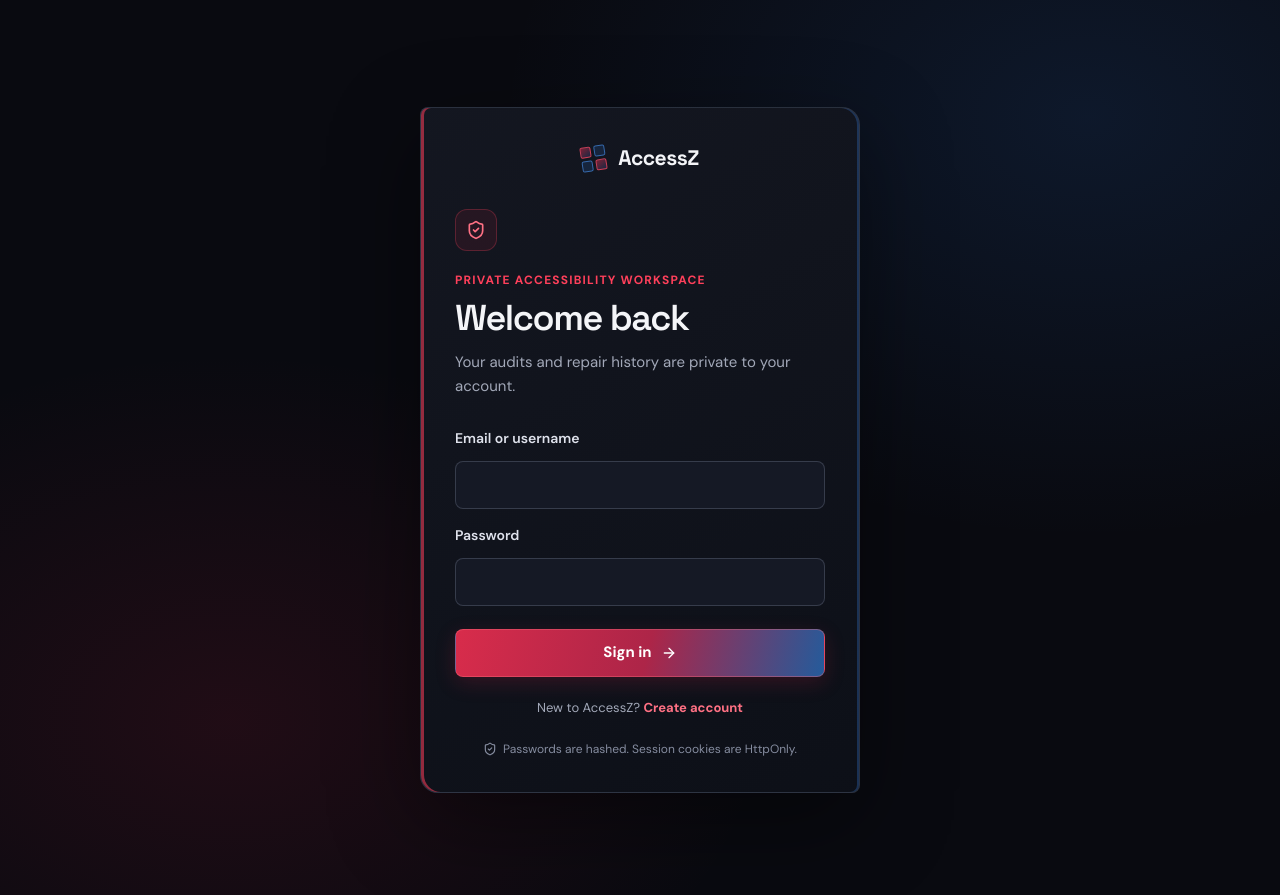
AccessZ audit workflow › signs in and signs out through the server-backed session API
Type "testuser" into the field labelled "Email or username" at [640, 485], box [455,461,825,509]
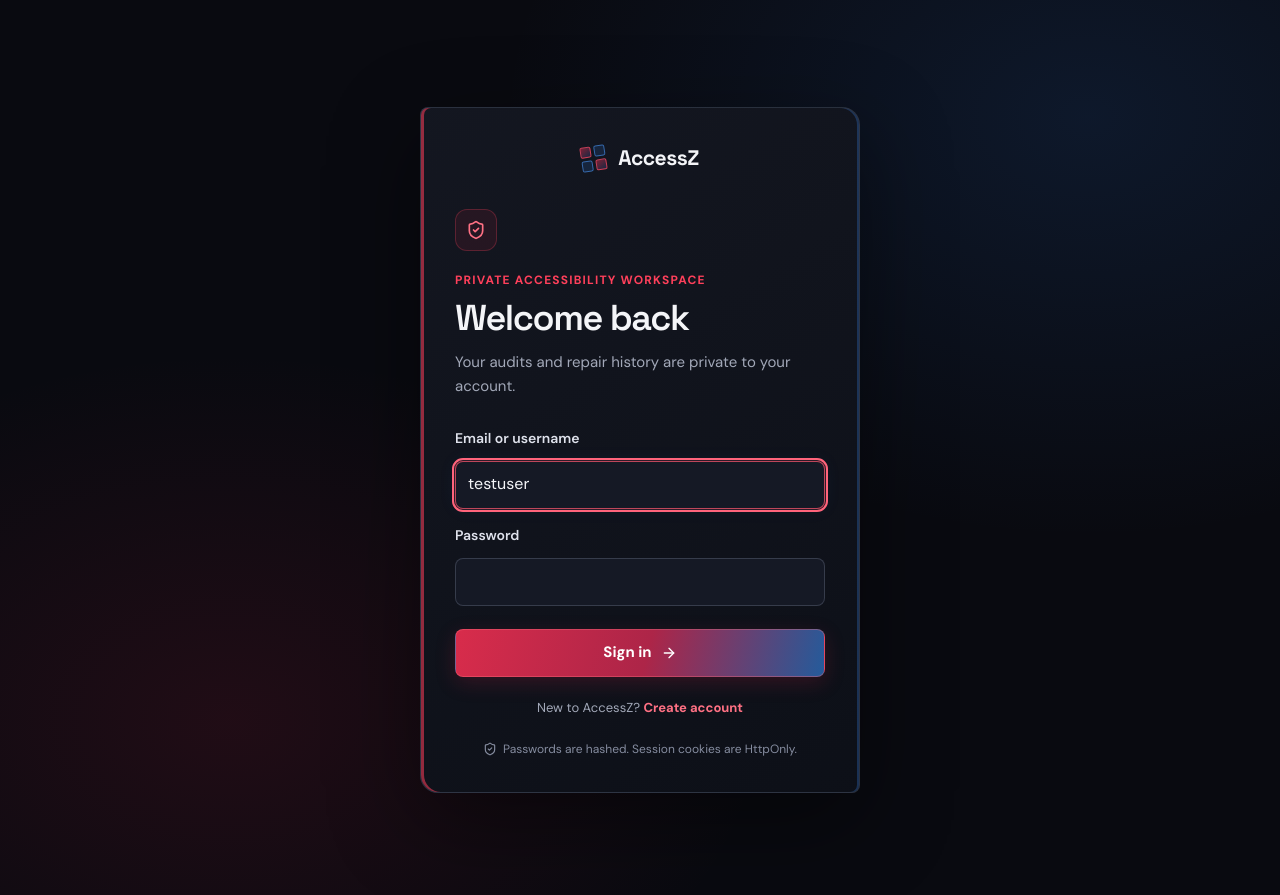
Type "A11yStrongPass123" into the password field labelled "Password" at [640, 582], box [455,558,825,606]
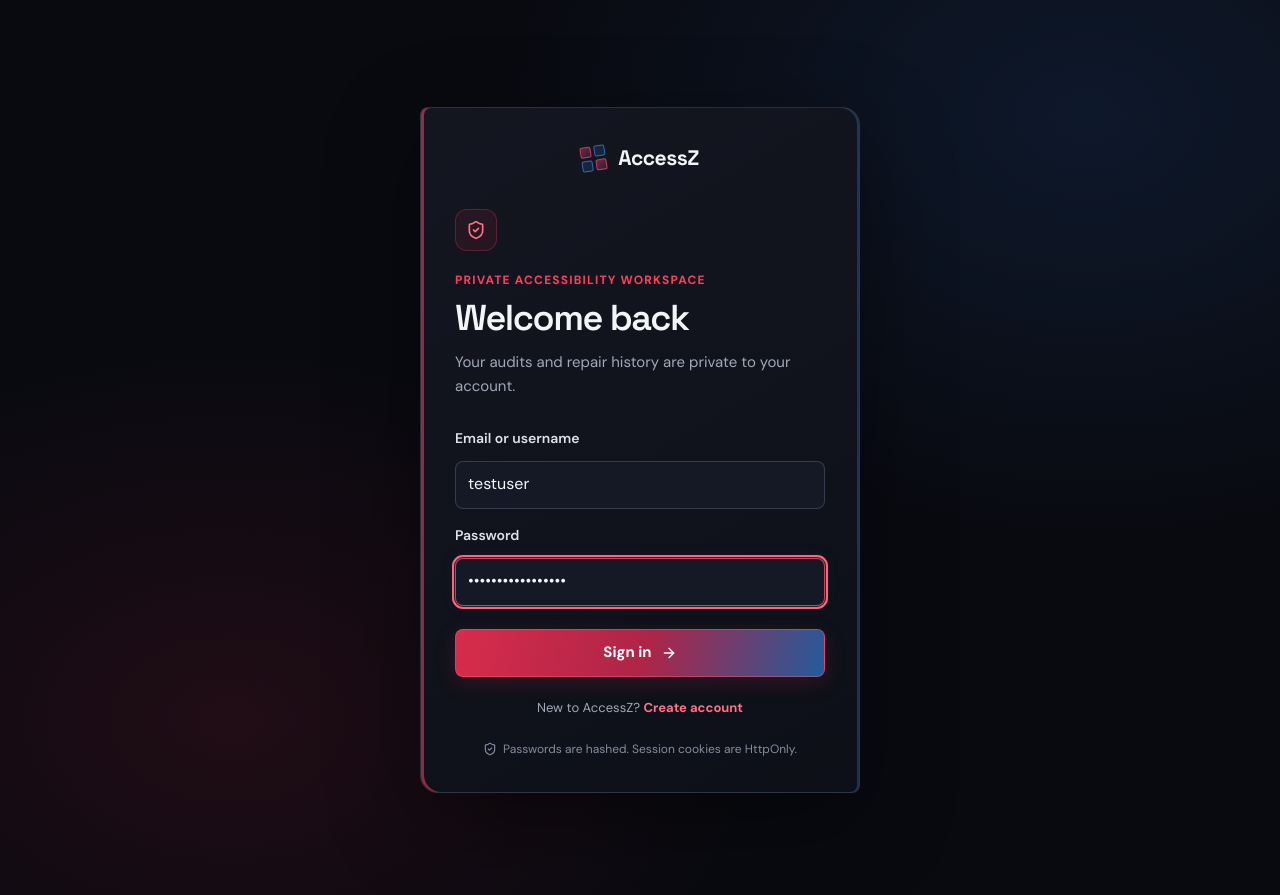
Click the button "Sign in" at [640, 652], box [455,628,825,676]
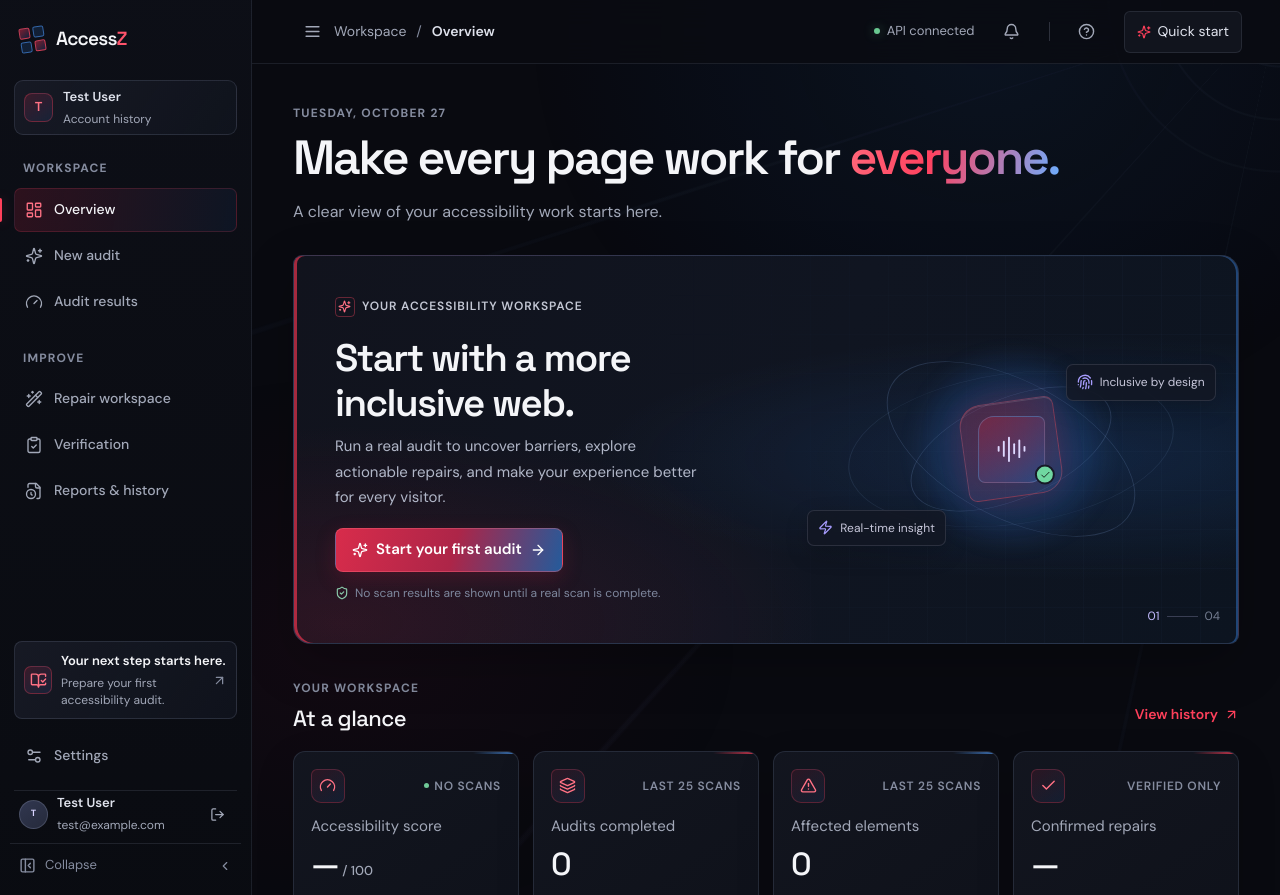
Expected: the link with aria-label "AccessZ home" is shown, [18,25,127,53]
Click the button named "Sign out" at [217, 814], box [202,799,232,829]
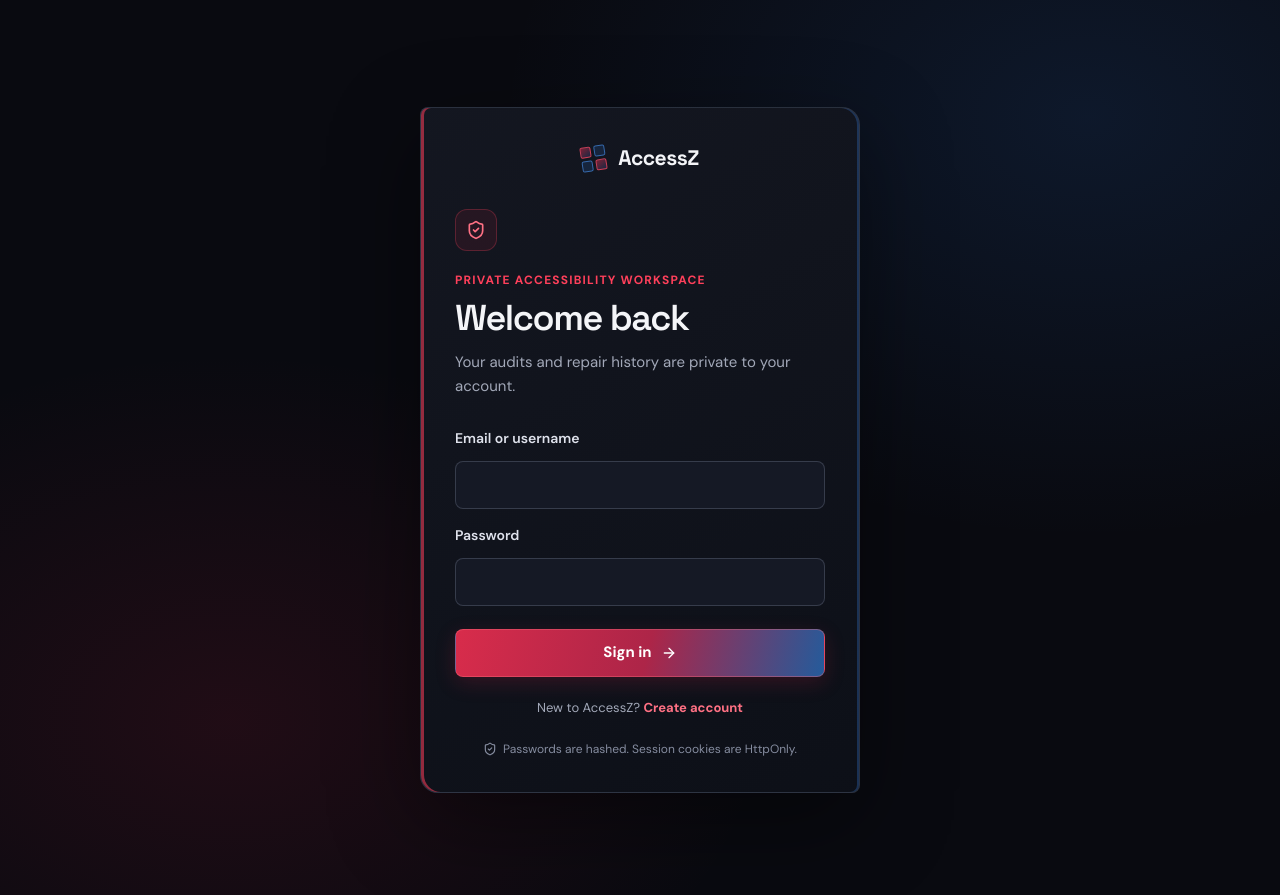
Expected: the heading "Welcome back" is shown, [455,296,689,342]
